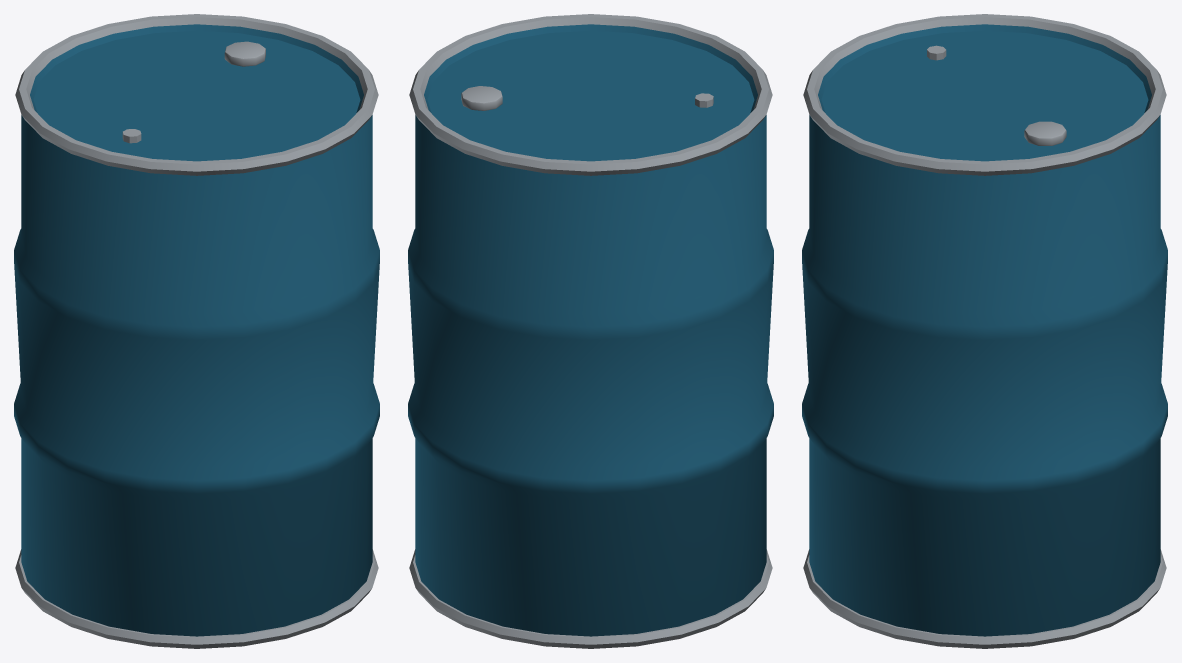
File: tambor.glb
3 renders of one model, left to right at view 1: azimuth 30°, elevation 25°; view 2: azimuth 150°, elevation 25°; view 3: azimuth 270°, elevation 25°, orthographic.
Visible parts, largest first — view 1: corpo, virola.001, virola, bocal; view 2: corpo, virola.001, virola, bocal; view 3: corpo, virola.001, virola, bocal.
Part boxes in pixels (left/top/right/bottom): corpo: left=14, top=24, right=379, bottom=636; virola.001: left=15, top=14, right=378, bottom=175; virola: left=15, top=549, right=378, bottom=648; bocal: left=224, top=41, right=265, bottom=66; corpo: left=408, top=24, right=773, bottom=636; virola.001: left=409, top=14, right=772, bottom=175; virola: left=409, top=549, right=772, bottom=648; bocal: left=461, top=86, right=502, bottom=110; corpo: left=802, top=24, right=1167, bottom=636; virola.001: left=803, top=14, right=1166, bottom=175; virola: left=803, top=549, right=1166, bottom=648; bocal: left=1024, top=121, right=1066, bottom=145.
Bounding box in the file's own units: 0.604 × 0.8844 × 0.604.
